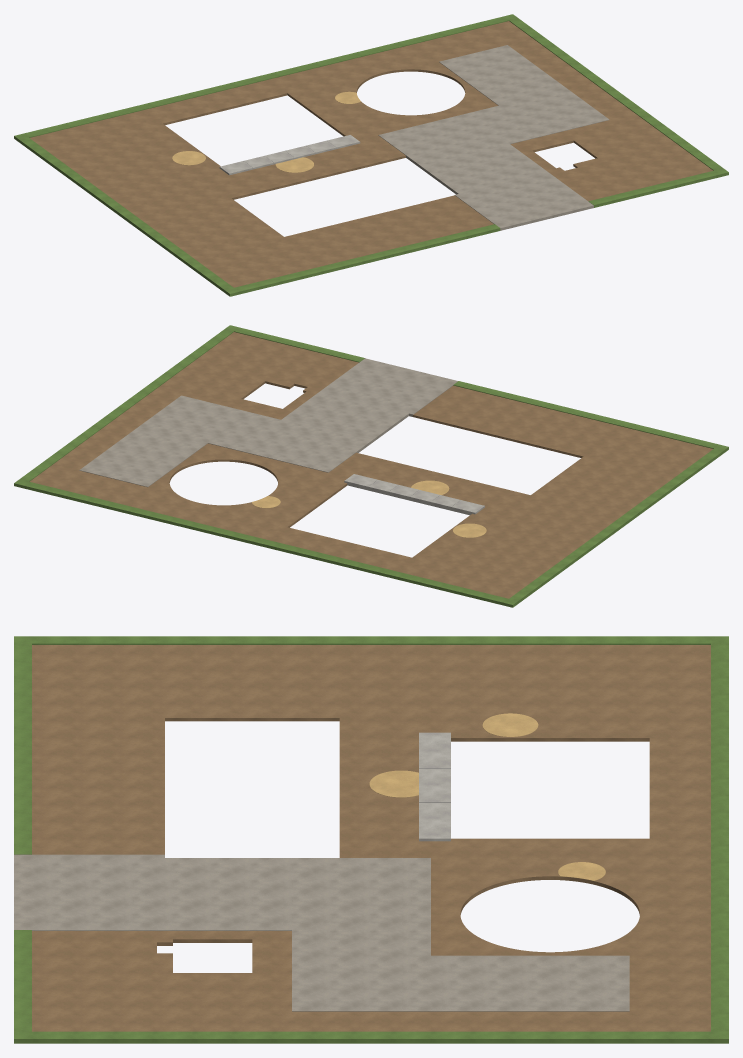
The model's file is site.glb.
3 renders of one model, top to bottom at view 1: azimuth 30°, elevation 25°; view 2: azimuth 150°, elevation 25°; view 3: azimuth 270°, elevation 25°, orthographic. The views are drawn at different scales.
Parts seen in each view (by area): view 1: site_dirt, site_gravel, site_grass, site_concrete, site_sawdust; view 2: site_dirt, site_gravel, site_grass, site_concrete, site_sawdust; view 3: site_dirt, site_gravel, site_grass, site_concrete, site_sawdust.
Part boxes in pixels (box(x1,y1,x2,y2)): site_dirt: box(30, 21, 713, 287); site_gravel: box(378, 45, 609, 230); site_grass: box(14, 14, 728, 296); site_concrete: box(219, 135, 360, 175); site_sawdust: box(172, 91, 360, 172); site_dirt: box(29, 332, 712, 598); site_gravel: box(79, 358, 457, 487); site_grass: box(14, 325, 728, 607); site_concrete: box(344, 474, 484, 515); site_sawdust: box(252, 480, 486, 537); site_dirt: box(32, 645, 710, 1031); site_gravel: box(14, 854, 629, 1011); site_grass: box(14, 636, 728, 1043); site_concrete: box(419, 732, 450, 841); site_sawdust: box(369, 713, 605, 880).
Bounding box in the file's own units: 48 × 0.351 × 36.
6 materials, 5 textured.
